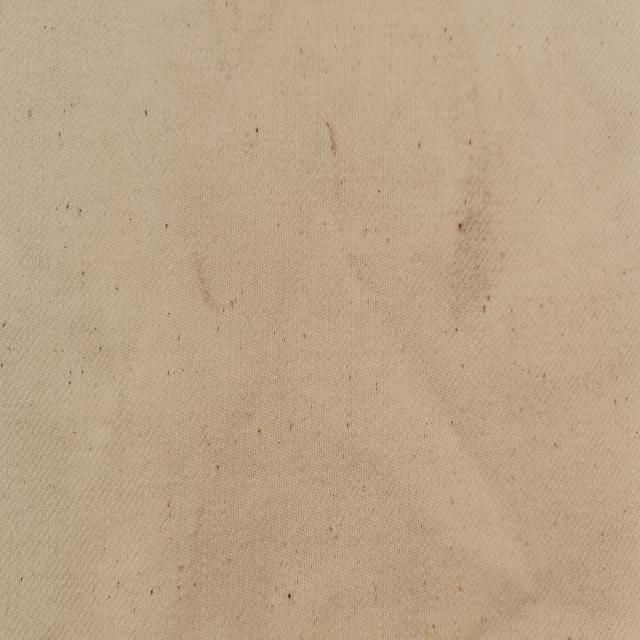taaaches: (448, 193, 494, 287), (320, 116, 346, 171)
